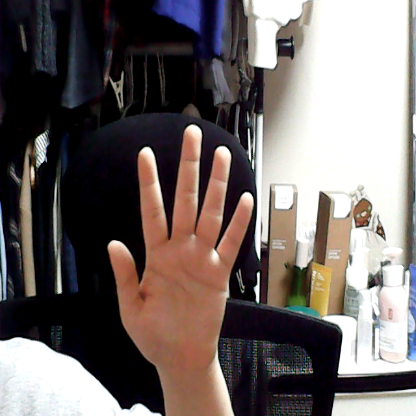Finger_5: (96, 119, 270, 385)
